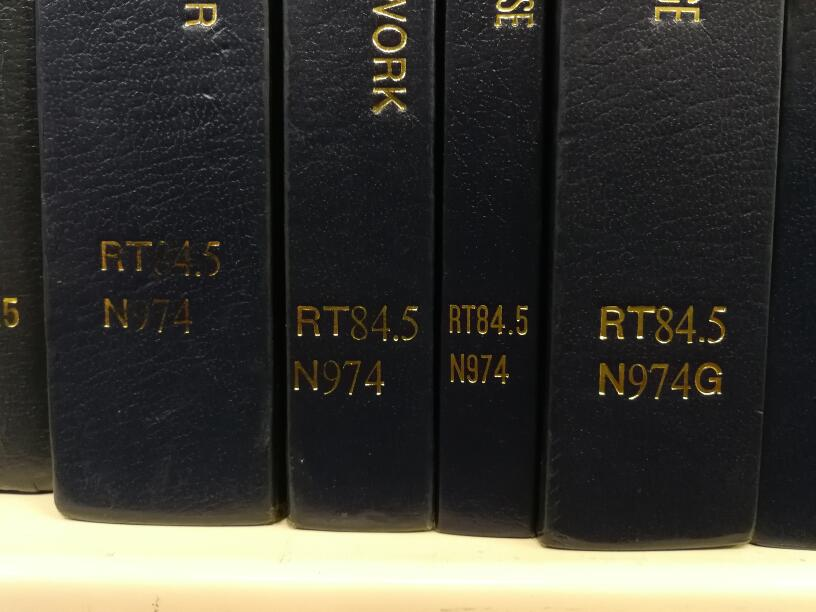booklabel: (92, 231, 230, 341), (589, 298, 730, 403), (286, 301, 424, 402), (442, 299, 530, 390)
